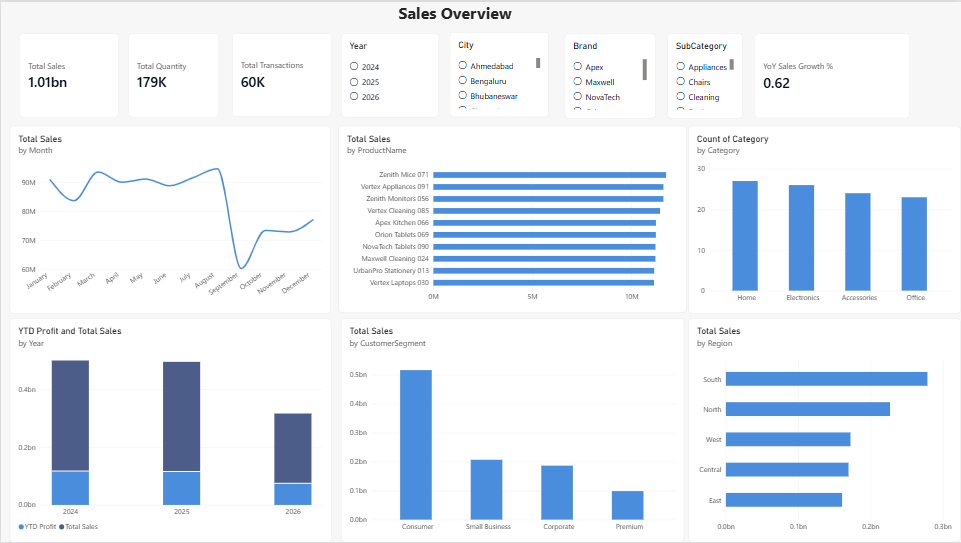

Layout of this report page (visuals, bound fields, positions):
{"tool":"powerbi","page":{"name":"Sales Overview","canvas":[1920,1080],"ordinal":0},"visuals":[{"type":"cardVisual","fields":{"Data":["FactSales.Total Sales"]},"box":[38,62,198,168],"z":0},{"type":"cardVisual","fields":{"Data":["FactSales.Total Quantity"]},"box":[254.3,61.4,181.4,168.6],"z":1000},{"type":"cardVisual","fields":{"Data":["FactSales.Total Transactions"]},"box":[461.4,61.4,198.6,167.1],"z":2000},{"type":"lineChart","fields":{"Category":["DimDate.OrderDate.Variation.Date Hierarchy.Month"],"Y":["FactSales.Total Sales"]},"box":[17.5,247.5,642.5,375],"z":3000},{"type":"clusteredBarChart","fields":{"Category":["DimProduct.ProductName"],"Y":["FactSales.Total Sales"]},"box":[675,247.5,696,374],"z":4000},{"type":"clusteredColumnChart","fields":{"Category":["DimCustomer.CustomerSegment"],"Y":["FactSales.Total Sales"]},"box":[680,632,686,448],"z":5000},{"type":"clusteredColumnChart","fields":{"Category":["DimProduct.Category"],"Y":["CountNonNull(DimProduct.Category)"]},"box":[1375,247.5,545,375],"z":6000},{"type":"clusteredBarChart","fields":{"Category":["DimRegion.Region"],"Y":["FactSales.Total Sales"]},"box":[1376,632,544,448],"z":7000},{"type":"listSlicer","fields":{"Values":["DimDate.Year"]},"box":[680,62,196,168],"z":8000},{"type":"listSlicer","fields":{"Values":["DimRegion.City"]},"box":[898,60,198,170],"z":9000},{"type":"listSlicer","fields":{"Values":["DimProduct.Brand"]},"box":[1127.1,61.4,181.2,170],"z":10000},{"type":"listSlicer","fields":{"Values":["DimProduct.SubCategory"]},"box":[1331.4,61.4,150,170],"z":11000},{"type":"columnChart","fields":{"Category":["DimDate.Year"],"Y":["FactSales.YTD Profit","FactSales.Total Sales"]},"box":[17.1,631.4,642.9,448.6],"z":12000},{"type":"cardVisual","fields":{"Data":["FactSales.YoY Sales Growth %"]},"box":[1508,62,310,170],"z":12001},{"type":"textbox","box":[796,0,300,60],"z":12002}]}

Visuals, with their boxes in screenshot pixels (x1, y1, x2, y2), scaled from the page's 1920x1080 canvas onto the 961x543 screenshot:
cardVisual - FactSales.Total Sales: bbox=(19, 31, 118, 116)
cardVisual - FactSales.Total Quantity: bbox=(127, 31, 218, 116)
cardVisual - FactSales.Total Transactions: bbox=(231, 31, 330, 115)
lineChart - DimDate.OrderDate.Variation.Date Hierarchy.Month x FactSales.Total Sales: bbox=(9, 124, 330, 313)
clusteredBarChart - DimProduct.ProductName x FactSales.Total Sales: bbox=(338, 124, 686, 312)
clusteredColumnChart - DimCustomer.CustomerSegment x FactSales.Total Sales: bbox=(340, 318, 684, 542)
clusteredColumnChart - DimProduct.Category x CountNonNull(DimProduct.Category): bbox=(688, 124, 960, 313)
clusteredBarChart - DimRegion.Region x FactSales.Total Sales: bbox=(689, 318, 960, 542)
listSlicer - DimDate.Year: bbox=(340, 31, 438, 116)
listSlicer - DimRegion.City: bbox=(449, 30, 549, 116)
listSlicer - DimProduct.Brand: bbox=(564, 31, 655, 116)
listSlicer - DimProduct.SubCategory: bbox=(666, 31, 741, 116)
columnChart - DimDate.Year x FactSales.YTD Profit: bbox=(9, 317, 330, 542)
cardVisual - FactSales.YoY Sales Growth %: bbox=(755, 31, 910, 117)
textbox: bbox=(398, 0, 549, 30)
